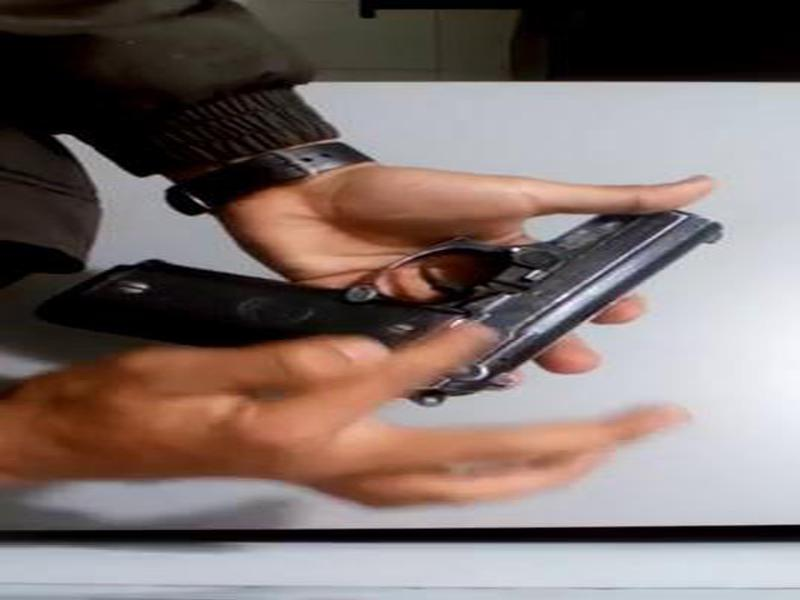Pistola: (41, 204, 739, 413)
